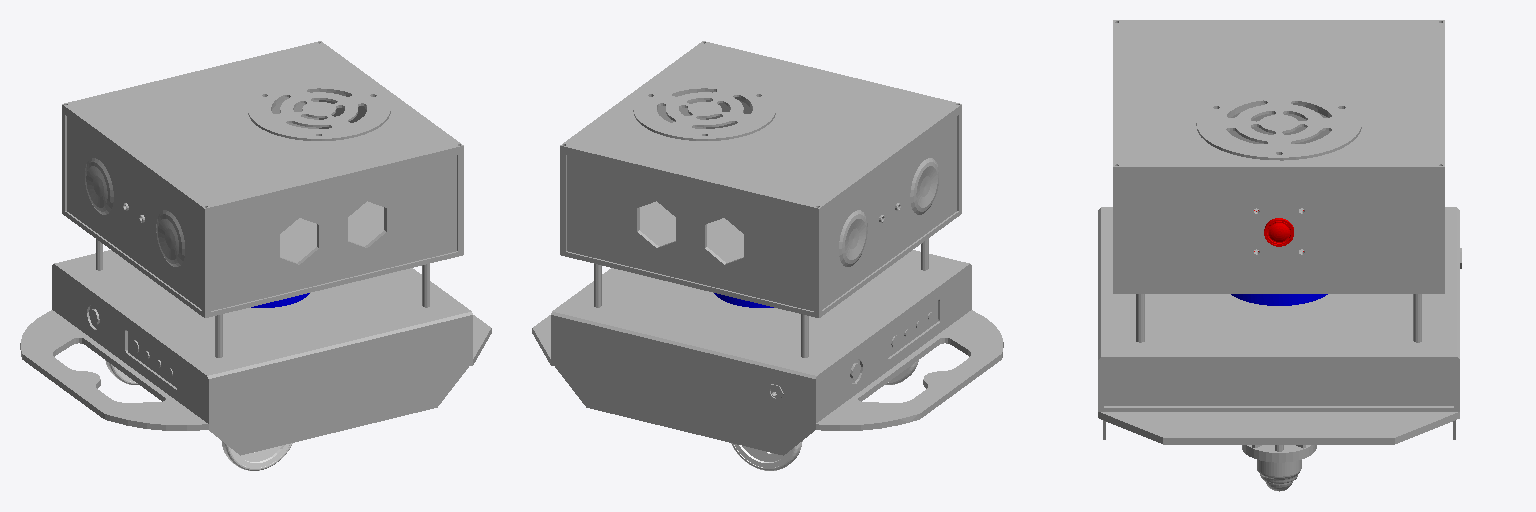
URDF robot description (robot_description):
<?xml version="1.0" encoding="utf-8"?>
<robot name="robot_description">

<!--base_link--> 
 <link name="base_footprint"/>

  <link 
  name="base_link">
    <inertial>
      <origin
        xyz="0 0 0"
        rpy="0 0 0" />
      <mass
        value="0.1" />
      <inertia
        ixx="0.00001"
        ixy="0"
        ixz="0"
        iyy="0.00001"
        iyz="0"
        izz="0.00001" />
    </inertial>
    <visual>
      <origin
        xyz="0 0 0"
        rpy="0 0 0" />
      <geometry>
        <mesh
          filename="package://robot_description/meshes/base_link.STL" />
      </geometry>
      <material
        name="">
        <color
          rgba="0.75294 0.75294 0.75294 1" />
      </material>
    </visual>
    <collision>
      <origin
        xyz="0 0 0"
        rpy="0 0 0" />
      <geometry>
        <mesh
          filename="package://robot_description/meshes/base_link.STL" />
      </geometry>
    </collision>
  </link>

  <joint name="base_link_joint" type="fixed">
    <origin xyz="0 0 0" rpy="0 0 0" />        
    <parent link="base_footprint"/>
    <child link="base_link" />
  </joint> 

<!--left_wheel--> 
  <link
    name="left_wheel">
    <inertial>
      <origin
        xyz="0 0 0"
        rpy="0 0 0" />
      <mass
        value="0.1" />
      <inertia
        ixx="0.00001"
        ixy="0"
        ixz="0"
        iyy="0.00001"
        iyz="0"
        izz="0.00001" />
    </inertial>
    <visual>
      <origin
        xyz="0 0 0"
        rpy="0 0 0" />
      <geometry>
        <mesh
          filename="package://robot_description/meshes/left_wheel.STL" />
      </geometry>
      <material
        name="">
        <color
          rgba="1 1 1 1" />
      </material>
    </visual>
    <collision>
      <origin
        xyz="0 0 0"
        rpy="0 0 0" />
      <geometry>
        <mesh
          filename="package://robot_description/meshes/left_wheel.STL" />
      </geometry>
    </collision>
  </link>
  <joint
    name="left_wheel_joint"
    type="continuous">
    <origin
      xyz="0 0.0899999999999911 0"
      rpy="0 0 0" />
    <parent
      link="base_link" />
    <child
      link="left_wheel" />
    <axis
      xyz="0 1 0" />
  </joint>
<!--right_wheel--> 
  <link
    name="right_wheel">
    <inertial>
      <origin
        xyz="0 0 0"
        rpy="0 0 0" />
      <mass
        value="0.1" />
      <inertia
        ixx="0.00001"
        ixy="0"
        ixz="0"
        iyy="0.00001"
        iyz="0"
        izz="0.00001" />
    </inertial>
    <visual>
      <origin
        xyz="0 0 0"
        rpy="0 0 0" />
      <geometry>
        <mesh
          filename="package://robot_description/meshes/right_wheel.STL" />
      </geometry>
      <material
        name="">
        <color
          rgba="1 1 1 1" />
      </material>
    </visual>
    <collision>
      <origin
        xyz="0 0 0"
        rpy="0 0 0" />
      <geometry>
        <mesh
          filename="package://robot_description/meshes/right_wheel.STL" />
      </geometry>
    </collision>
  </link>
  <joint
    name="right_wheel_joint"
    type="continuous">
    <origin
      xyz="0 -0.0899999999999911 0"
      rpy="0 0 0" />
    <parent
      link="base_link" />
    <child
      link="right_wheel" />
    <axis
      xyz="0 1 0" />
  </joint>
<!--lidar--> 
  <link
    name="lidar">
    <inertial>
      <origin
        xyz="-0.0006076 2.2559E-06 -0.00036095"
        rpy="0 0 0" />
      <mass
        value="0.001" />
      <inertia
        ixx="0.00001"
        ixy="0"
        ixz="0"
        iyy="0.00001"
        iyz="0"
        izz="0.00001" />
    </inertial>
    <visual>
      <origin
        xyz="0 0 0"
        rpy="0 0 0" />
      <geometry>
        <mesh
          filename="package://robot_description/meshes/lidar.STL" />
      </geometry>
      <material
        name="">
        <color
          rgba="0 0 1 1" />
      </material>
    </visual>
    <collision>
      <origin
        xyz="0 0 0"
        rpy="0 0 0" />
      <geometry>
        <mesh
          filename="package://robot_description/meshes/lidar.STL" />
      </geometry>
    </collision>
  </link>
  <joint
    name="lidar_joint"
    type="fixed">
    <origin
      xyz="0.0550000000000001 0 0.0915975845410628"
      rpy="0 0 0" />
    <parent
      link="base_link" />
    <child
      link="lidar" />
    <axis
      xyz="0 0 0" />
  </joint>
<!--camera--> 
  <link
    name="camera">
    <inertial>
      <origin
        xyz="-0.0015835 3.3983E-18 -5.5511E-17"
        rpy="0 0 0" />
      <mass
        value="0.001" />
      <inertia
        ixx="0.00001"
        ixy="0"
        ixz="0"
        iyy="0.00001"
        iyz="0"
        izz="0.00001" />
    </inertial>
    <visual>
      <origin
        xyz="0 0 0"
        rpy="0 0 0" />
      <geometry>
        <mesh
          filename="package://robot_description/meshes/camera.STL" />
      </geometry>
      <material
        name="">
        <color
          rgba="1 0 0 1" />
      </material>
    </visual>
    <collision>
      <origin
        xyz="0 0 0"
        rpy="0 0 0" />
      <geometry>
        <mesh
          filename="package://robot_description/meshes/camera.STL" />
      </geometry>
    </collision>
  </link>
  <joint
    name="camera_joint"
    type="fixed">
    <origin
      xyz="0.168 0 0.1625"
      rpy="0 0 0" />
    <parent
      link="base_link" />
    <child
      link="camera" />
    <axis
      xyz="0 0 0" />
  </joint>
</robot>

--- Render facts (derived) ---
The picture shows the robot from 3 angles, left to right: view 1: azimuth 30°, elevation 25°; view 2: azimuth 150°, elevation 25°; view 3: azimuth 270°, elevation 25°; orthographic projection.
Model robot_description with 6 links and 5 joints (2 continuous, 3 fixed), rooted at base_footprint, posed every joint at zero.
Links seen in each view (by area): view 1: base_link, right_wheel; view 2: base_link, left_wheel; view 3: base_link, lidar, camera.
Boxes of the visible links, box(x1,y1,x2,y2) form: base_link: box(20, 41, 491, 455); right_wheel: box(222, 441, 292, 470); base_link: box(532, 41, 1003, 455); left_wheel: box(731, 441, 802, 470); base_link: box(1098, 20, 1461, 491); lidar: box(1231, 294, 1327, 305); camera: box(1254, 210, 1303, 251).
Size in the robot's own frame: 0.336 by 0.241 by 0.2445 metres.
Meshes: 5 distinct files referenced, 5 mesh visuals loaded (5 binary STL).